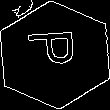P_E: (26, 35, 84, 75)
